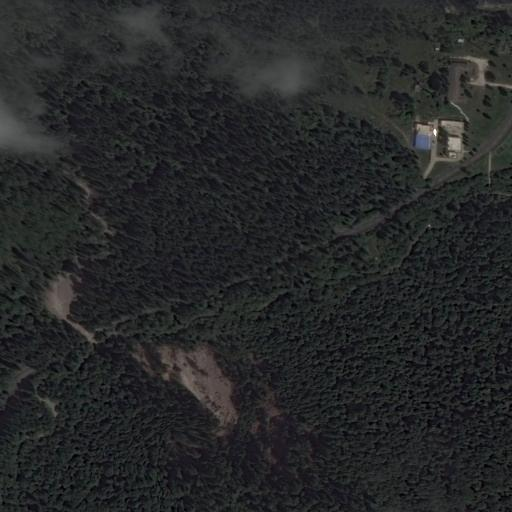landslide: (159, 342, 239, 436), (42, 269, 73, 322)
